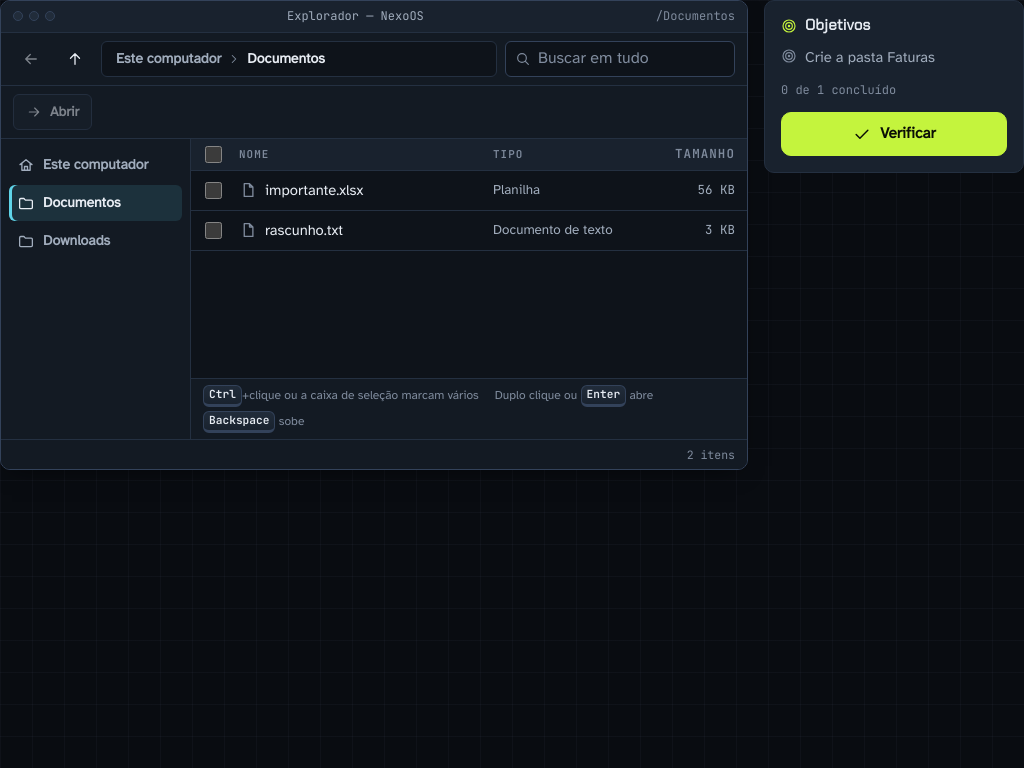
Test: FilesystemChallenge › busca mostra o local de cada item e abrir uma pasta encontrada navega até ela
The width and height of the screenshot is (1024, 768).
Type "compro" into the search field named "Buscar arquivos e pastas" at (620, 59), box [505,41,735,77]
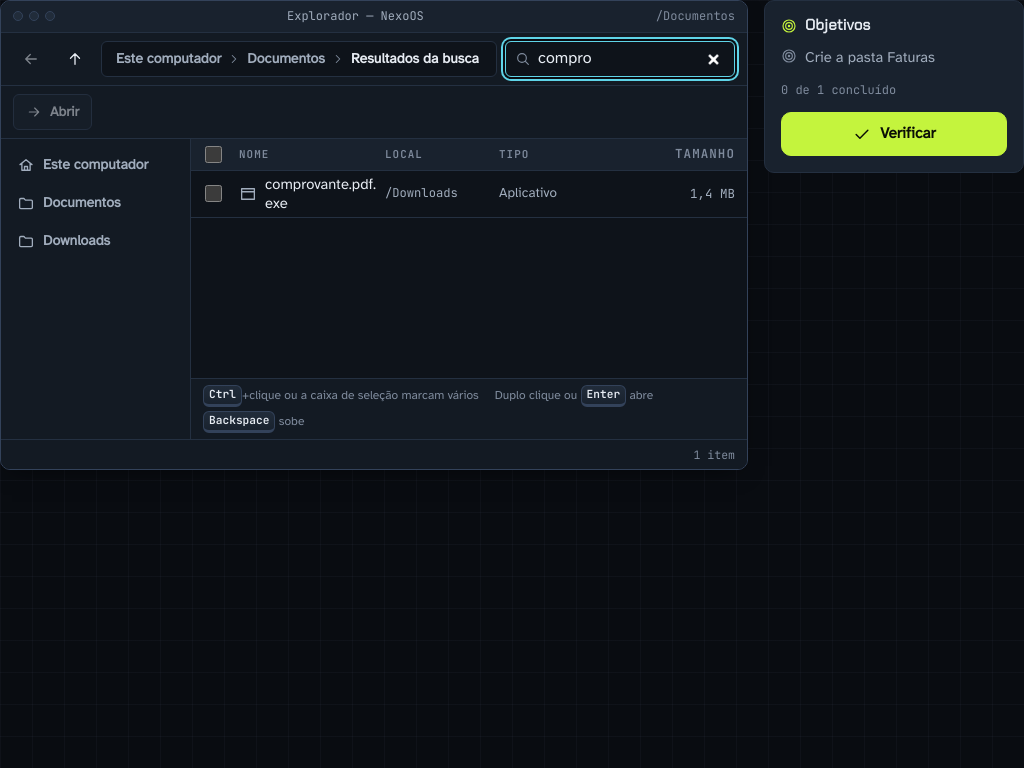
Expected: the table named "Resultados da busca por compro" is shown, [191,139,747,378]
Replace the text in the search field named "Buscar arquivos e pastas" with "Down" at (620, 59), box [505,41,735,77]
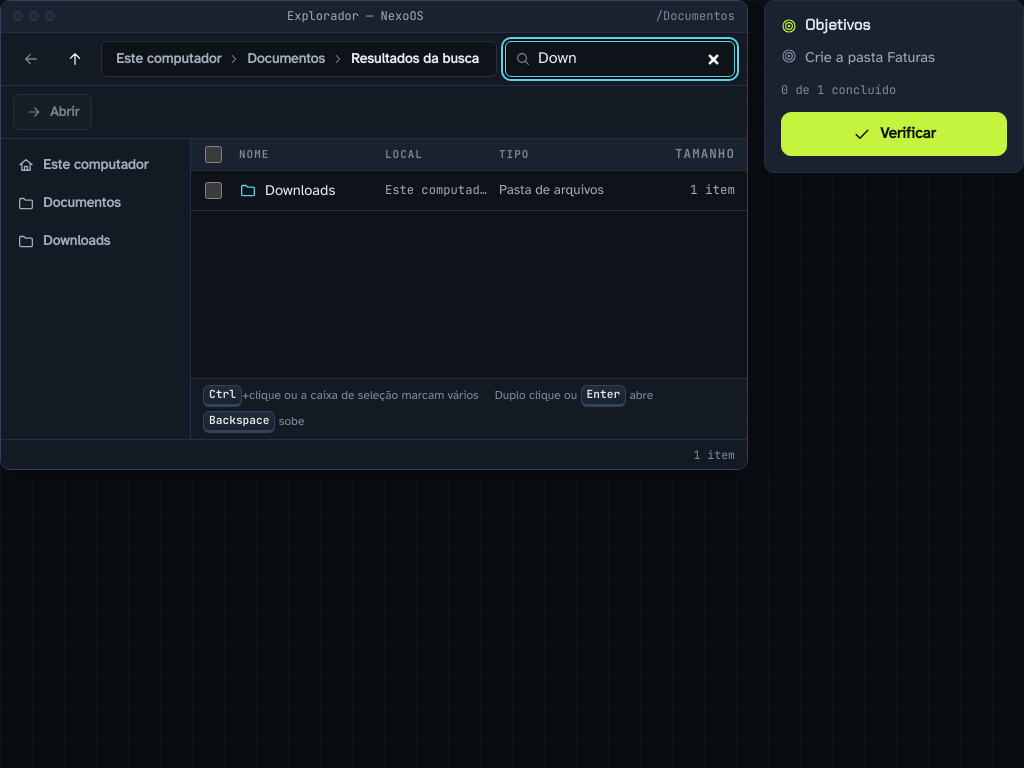
Double-click the row "Downloads Este computador Pasta de arquivos 1 item" at (469, 191), box [191,171,747,211]
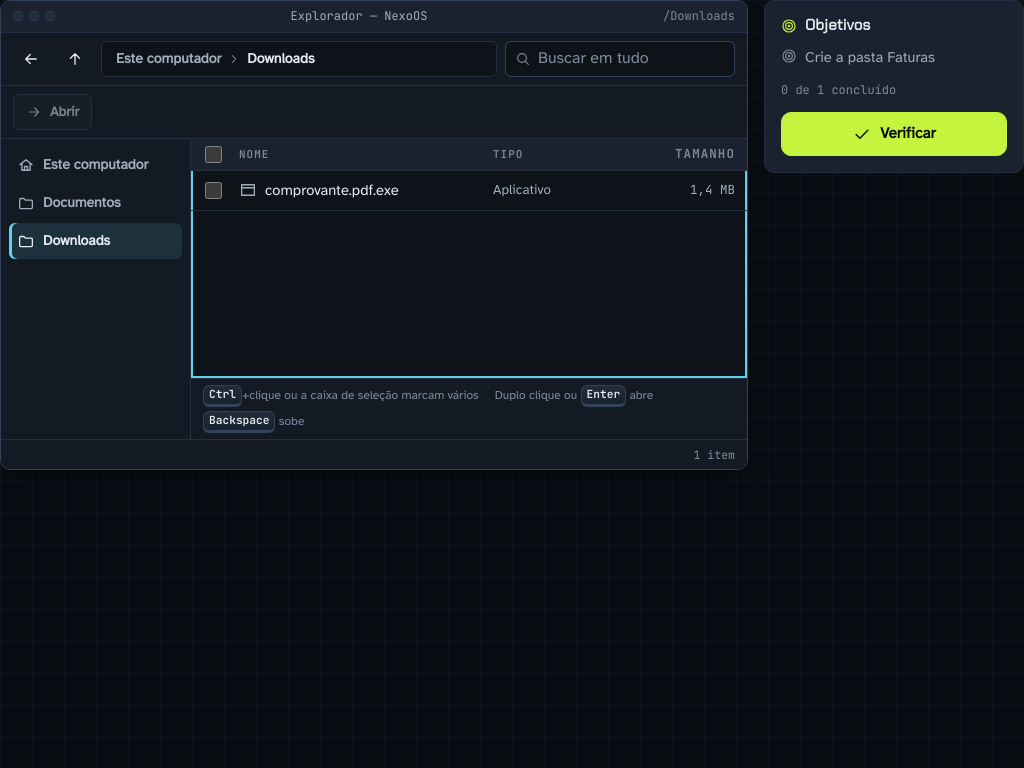
Expected: the table named "Conteúdo de Downloads" is shown, [191,139,747,378]
